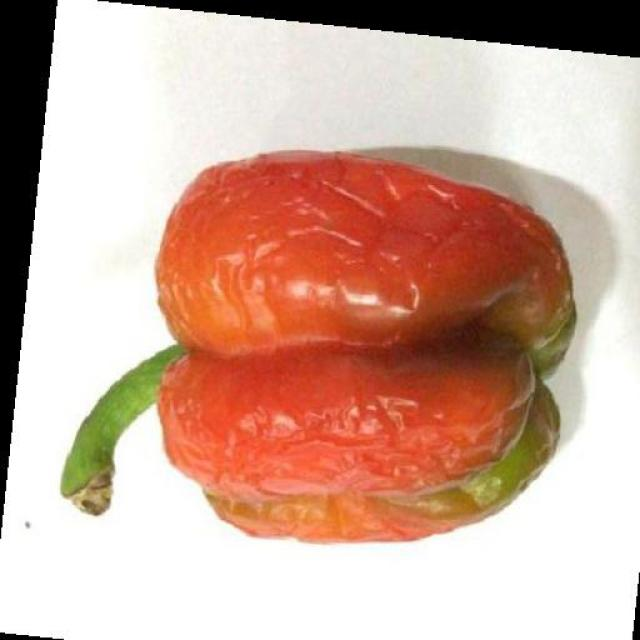Stale_Capsicum: (66, 123, 573, 567)
